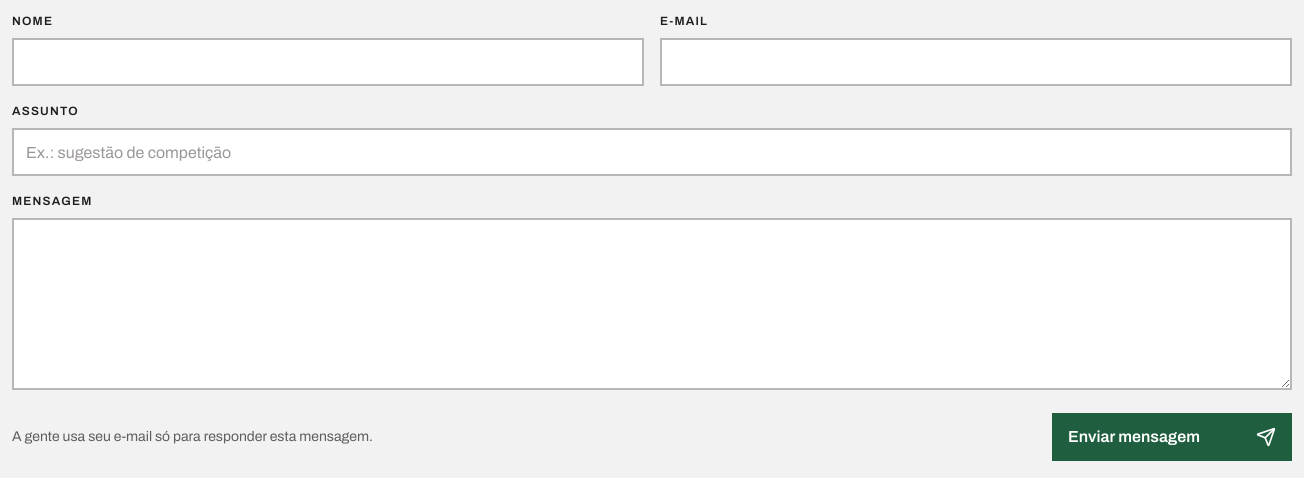
FormFaleConosco › envia sem o campo oculto e mostra a confirmação
Type "Bia Souza" into the field labelled "Nome". click: (328, 62)
box: x1=12 y1=38 x2=644 y2=86
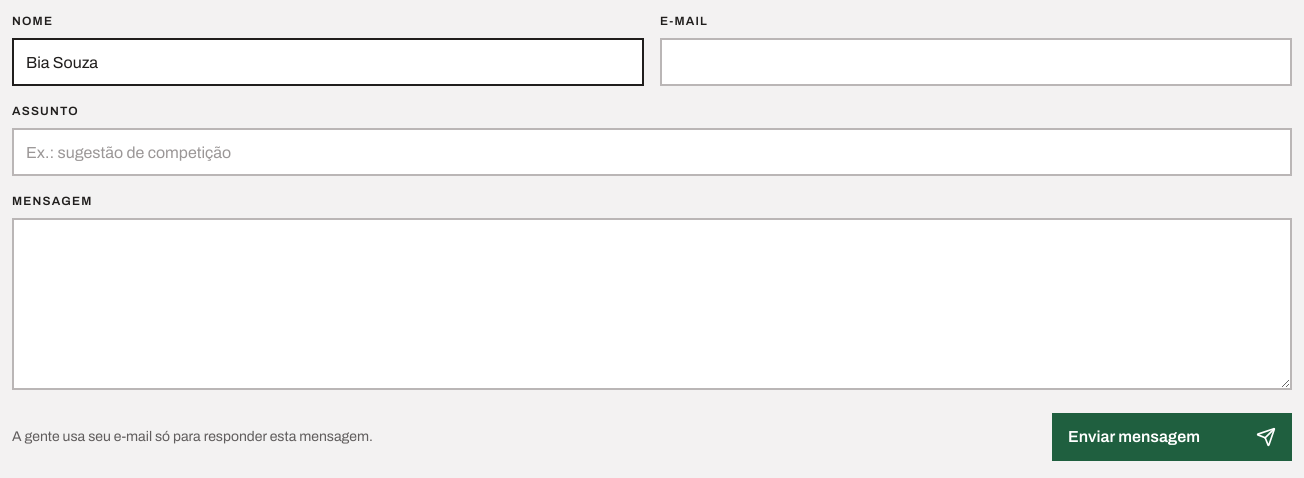
Type "bia@exemplo.com" into the field labelled "E-mail". click: (976, 62)
box: x1=660 y1=38 x2=1292 y2=86
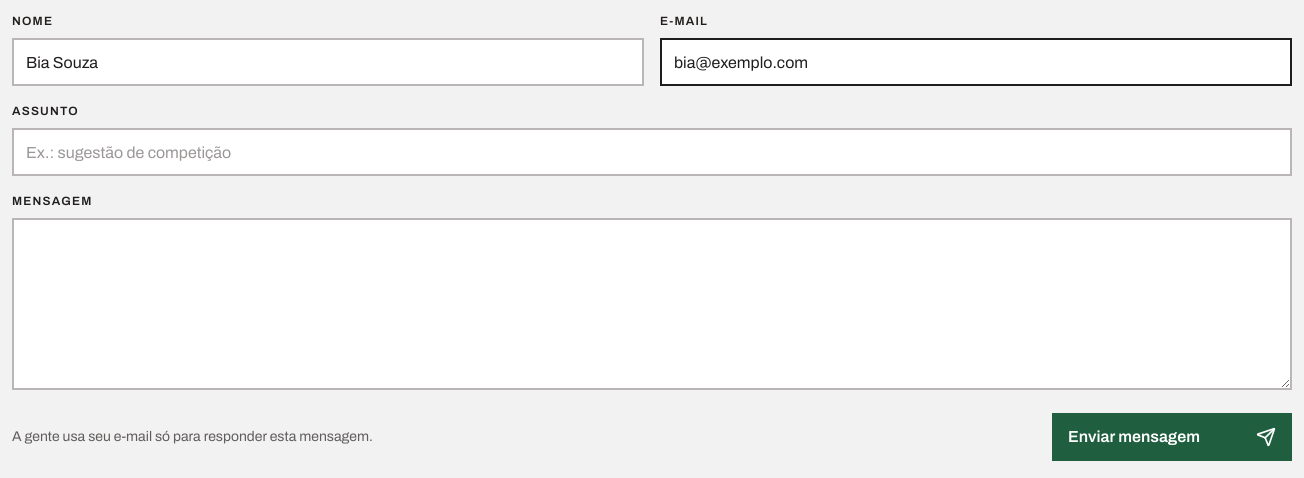
Type "Sugestão" into the field labelled "Assunto". click: (652, 152)
box: x1=12 y1=128 x2=1292 y2=176
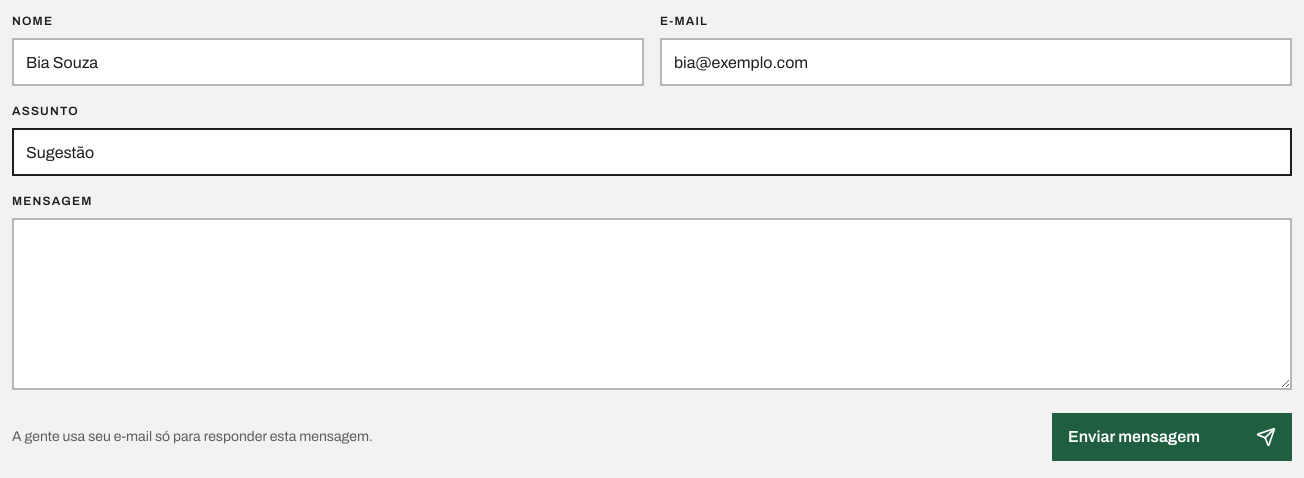
Type "Coloquem a Copa do Mundo!" into the text box labelled "Mensagem". click: (652, 304)
box: x1=12 y1=218 x2=1292 y2=390
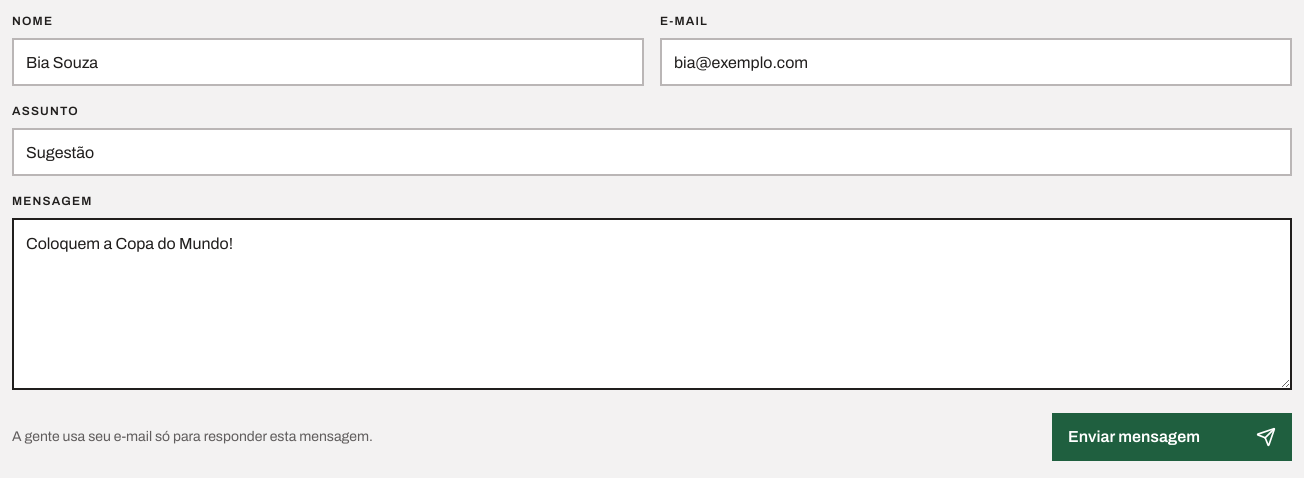
Click the button "Enviar mensagem". click: (1172, 437)
box: x1=1052 y1=413 x2=1292 y2=461
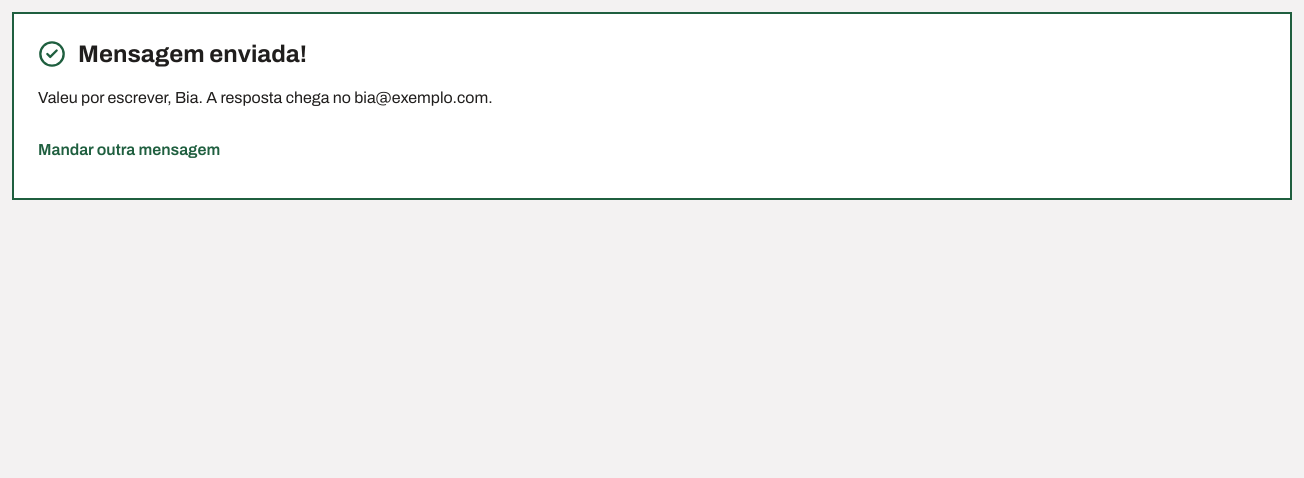
Result: the text "Mensagem enviada!" is shown at x1=38 y1=40 x2=307 y2=68
Result: the text "A resposta chega no bia@exemplo.com" is shown at x1=38 y1=89 x2=493 y2=106
